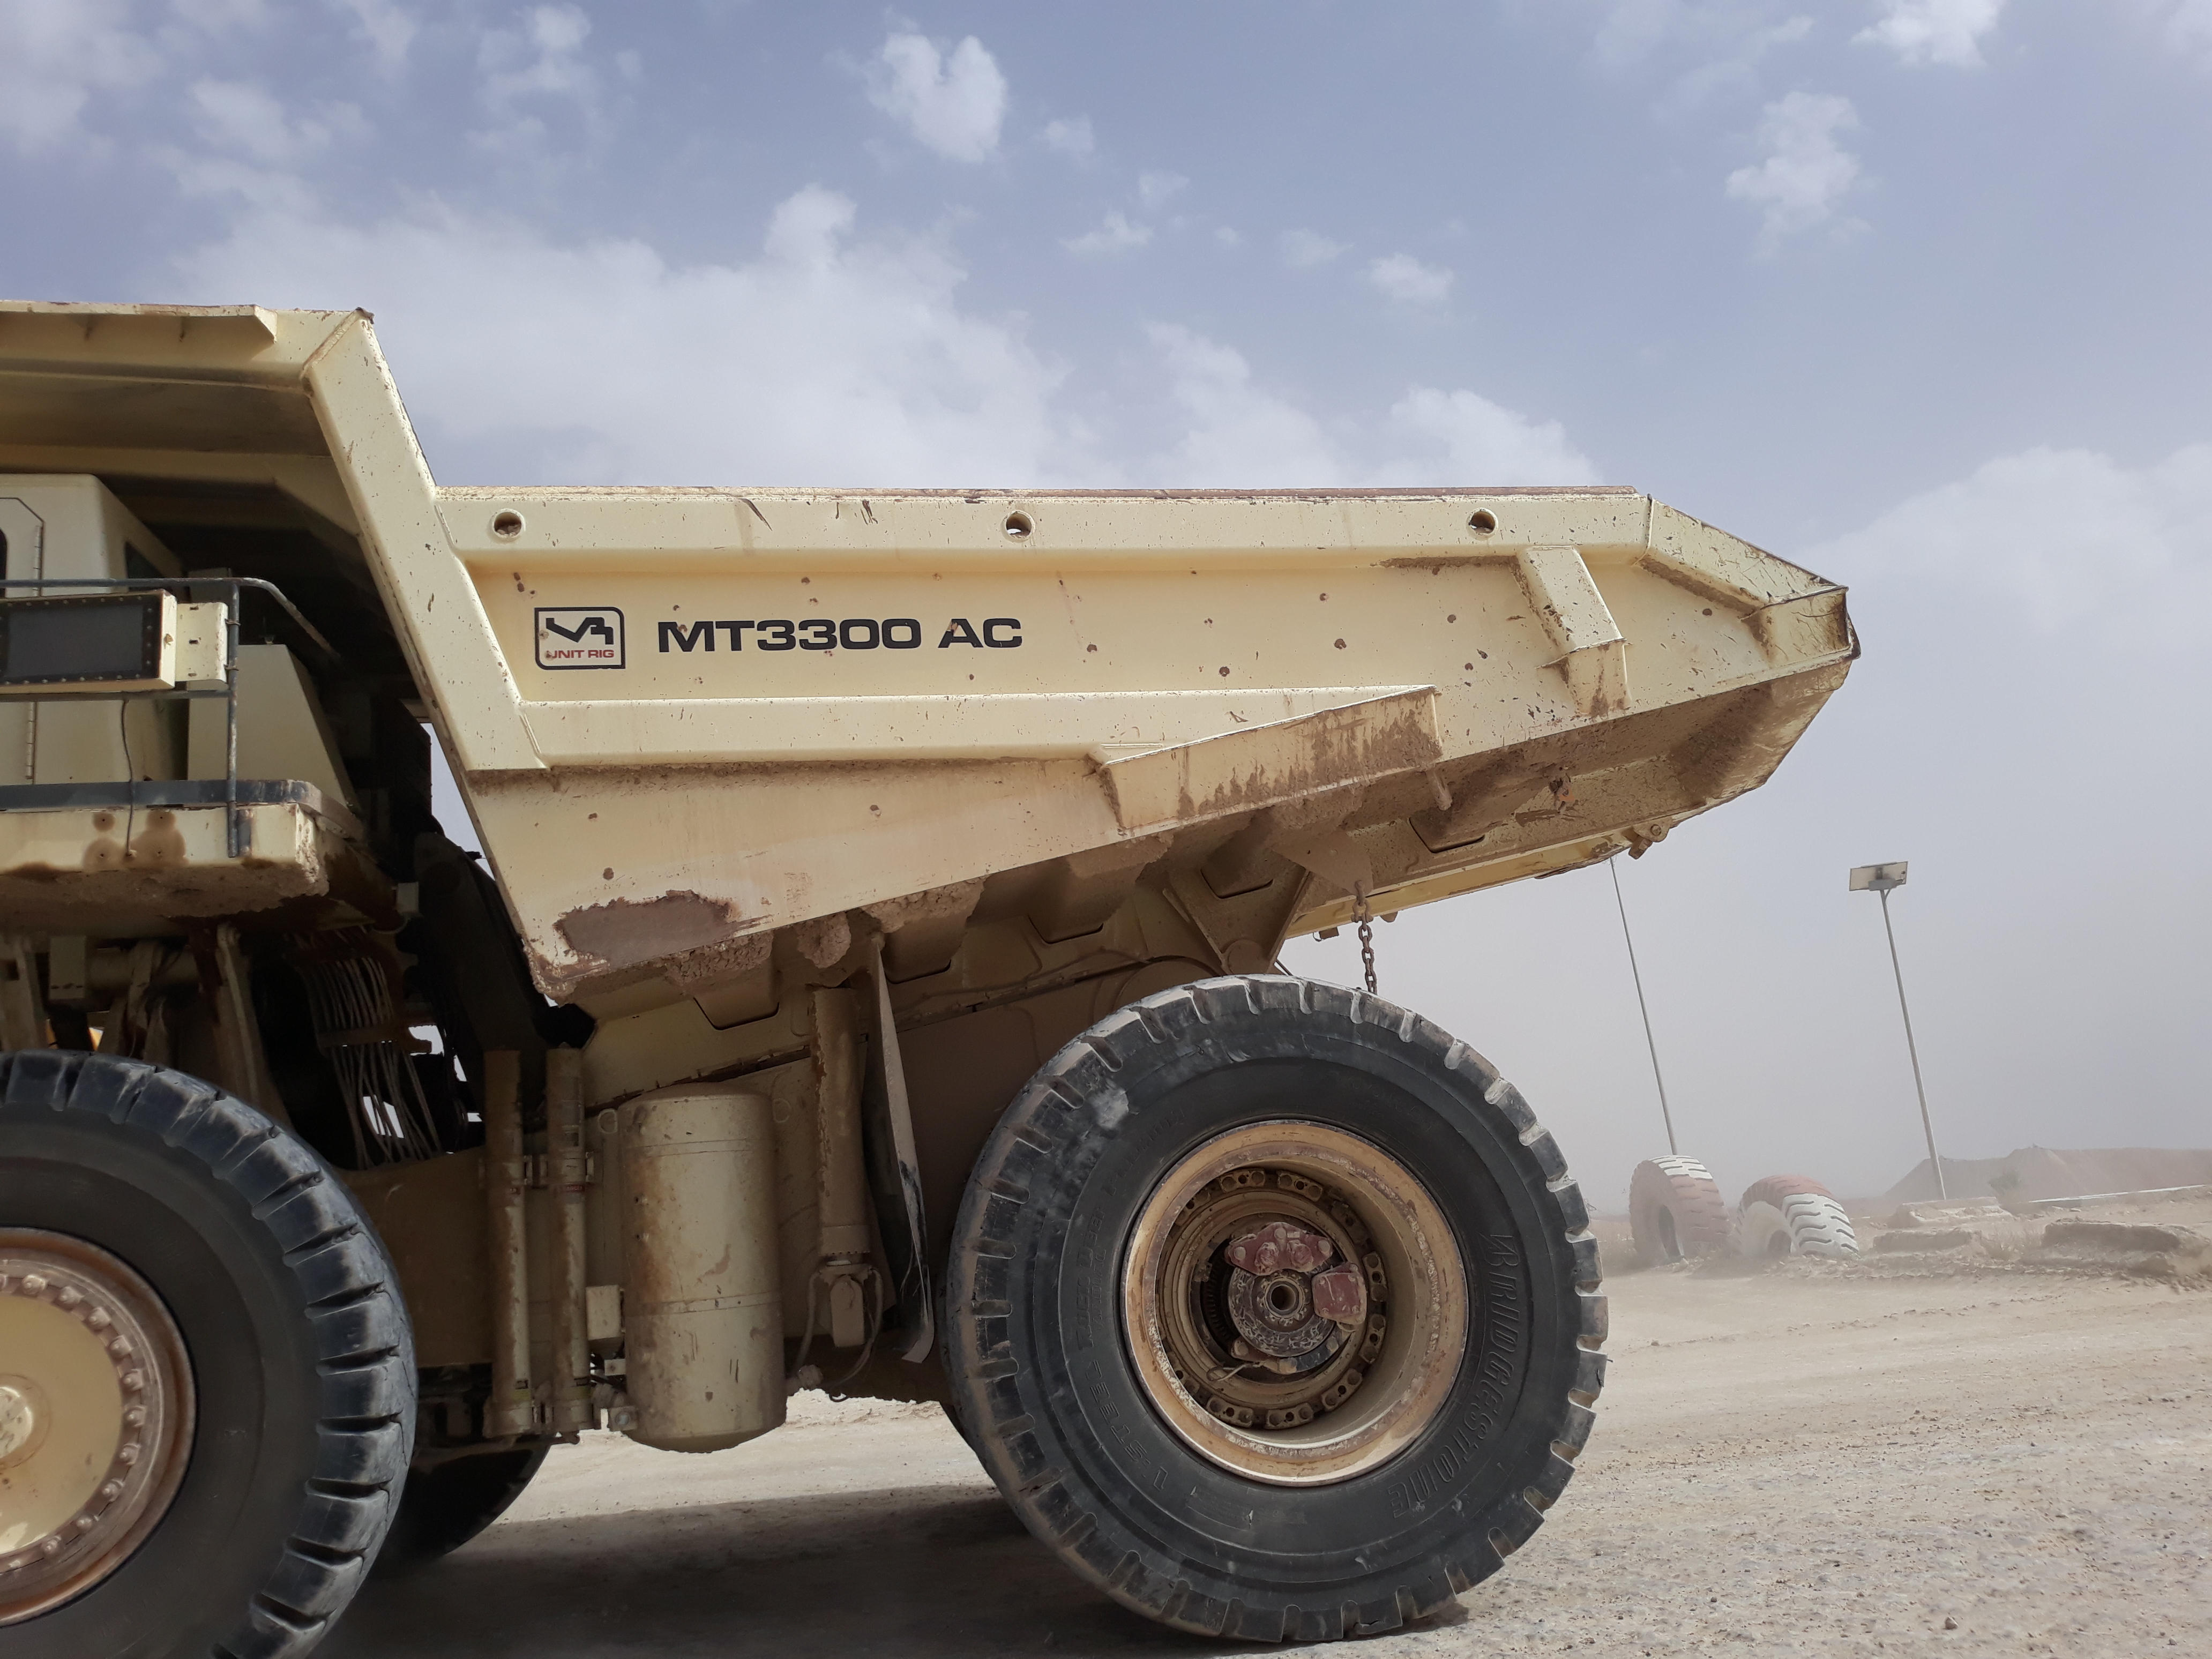camion: (0, 296, 1895, 1654)
